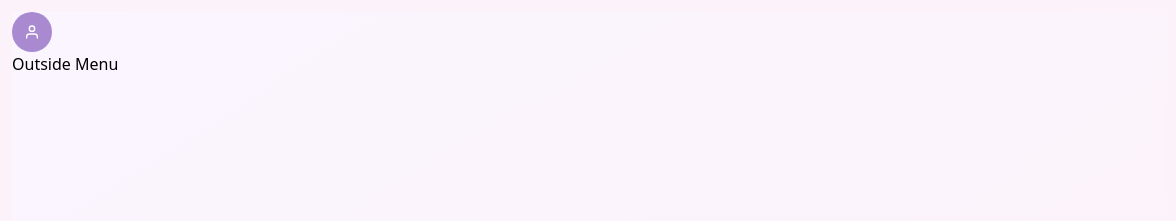
Scenario: UserMenu › logs out and returns to the home page
This screenshot has width=1176, height=221.
Click the button at (32, 32), box [12,12,52,52]
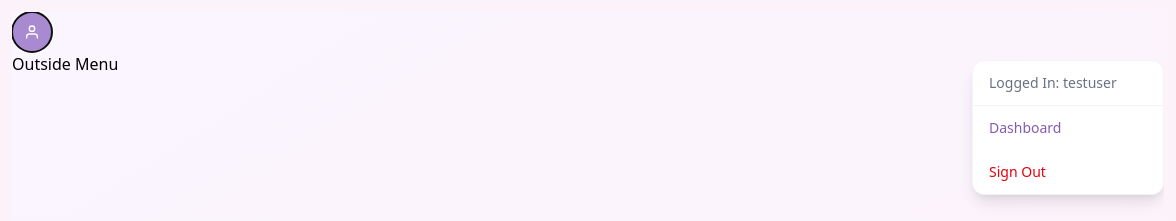
Click the button "Sign Out" at (1068, 172), box [973,150,1163,194]
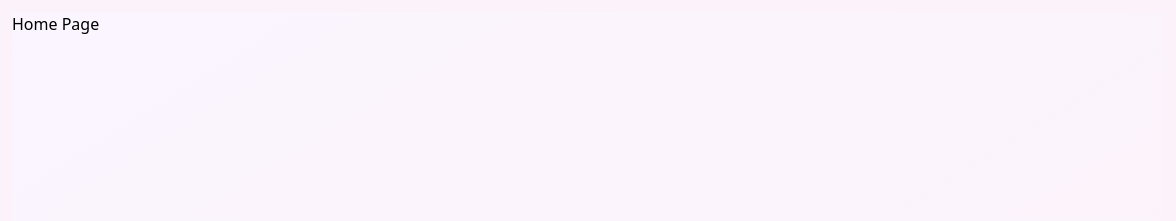
Check: the text "Home Page" is shown, box [12,13,99,35]
